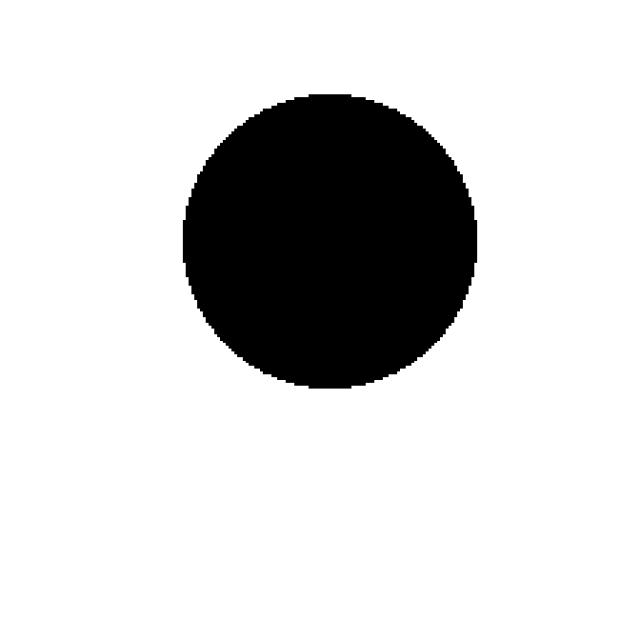Circle: (154, 67, 489, 393)
